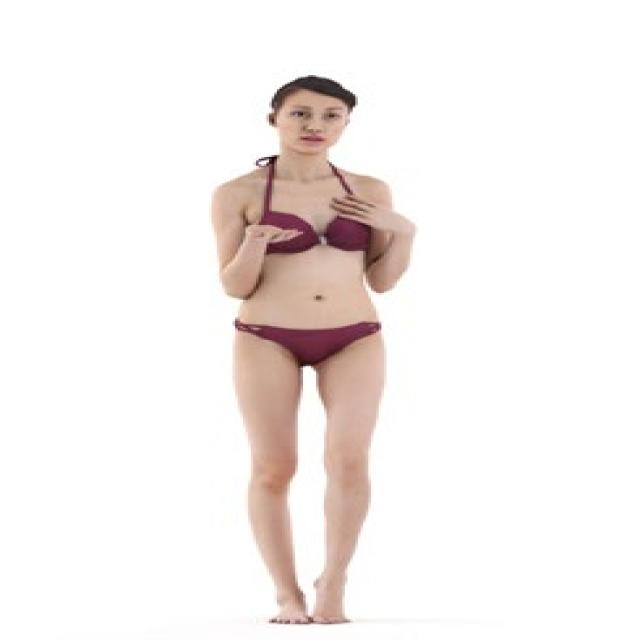standing: (212, 76, 418, 625)
